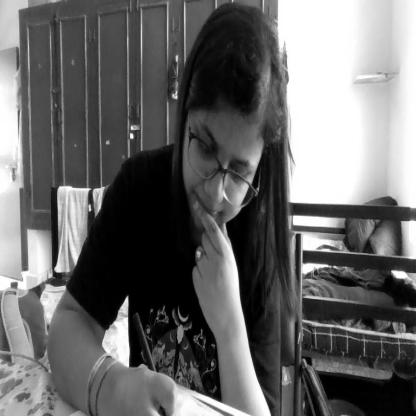Distracted: (174, 0, 286, 238)
